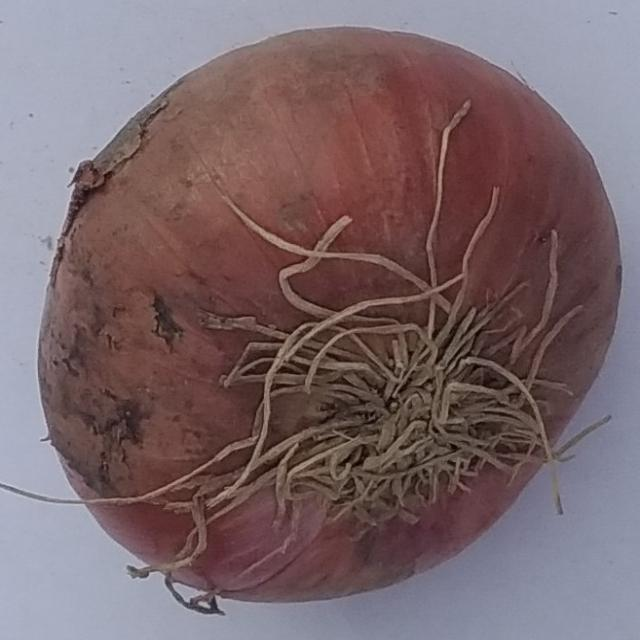onion: (35, 27, 624, 614)
